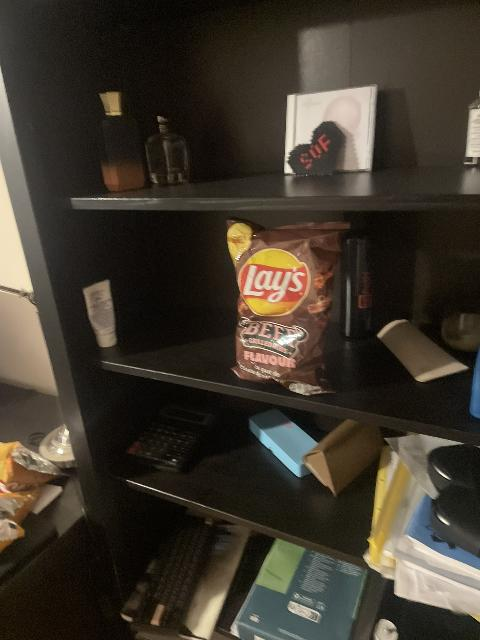Lays Beef Grilled Ribs 125g: (225, 218, 345, 391)
